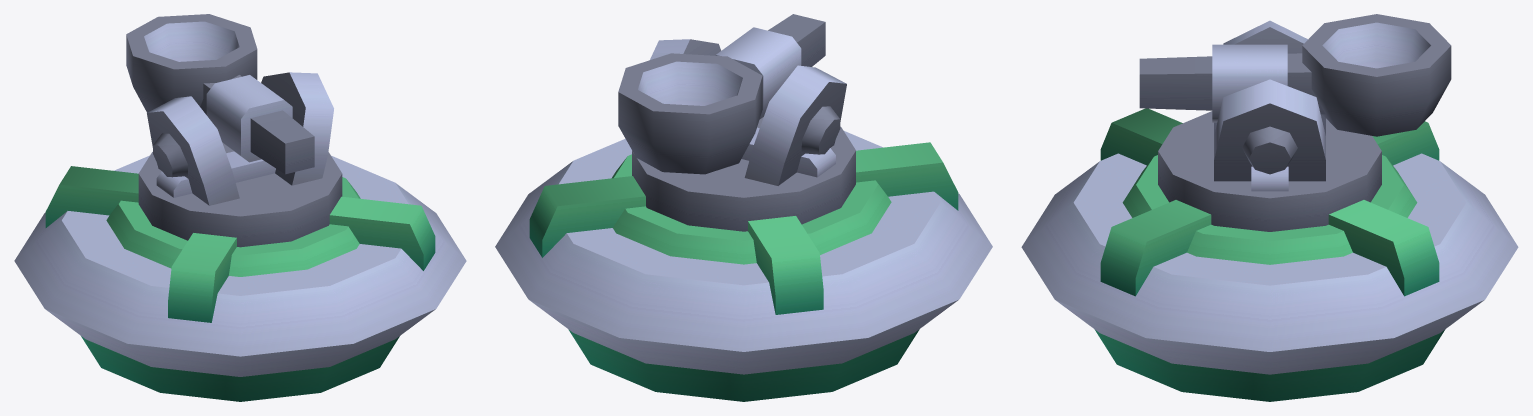
File: enemy-ufo-b-weapon.glb
3 renders of one model, left to right at view 1: azimuth 30°, elevation 25°; view 2: azimuth 150°, elevation 25°; view 3: azimuth 270°, elevation 25°, orthographic. The views are drawn at different scales.
Parts seen in each view (by area): view 1: enemy-ufo-b-weapon; view 2: enemy-ufo-b-weapon; view 3: enemy-ufo-b-weapon.
Boxes of the visible parts, left/top/right/bottom form: enemy-ufo-b-weapon: left=14, top=14, right=466, bottom=401; enemy-ufo-b-weapon: left=495, top=14, right=992, bottom=401; enemy-ufo-b-weapon: left=1021, top=14, right=1518, bottom=401.
Bounding box in the file's own units: 0.9993 × 0.6256 × 1.
Materials: 1 (1 with a texture image).
